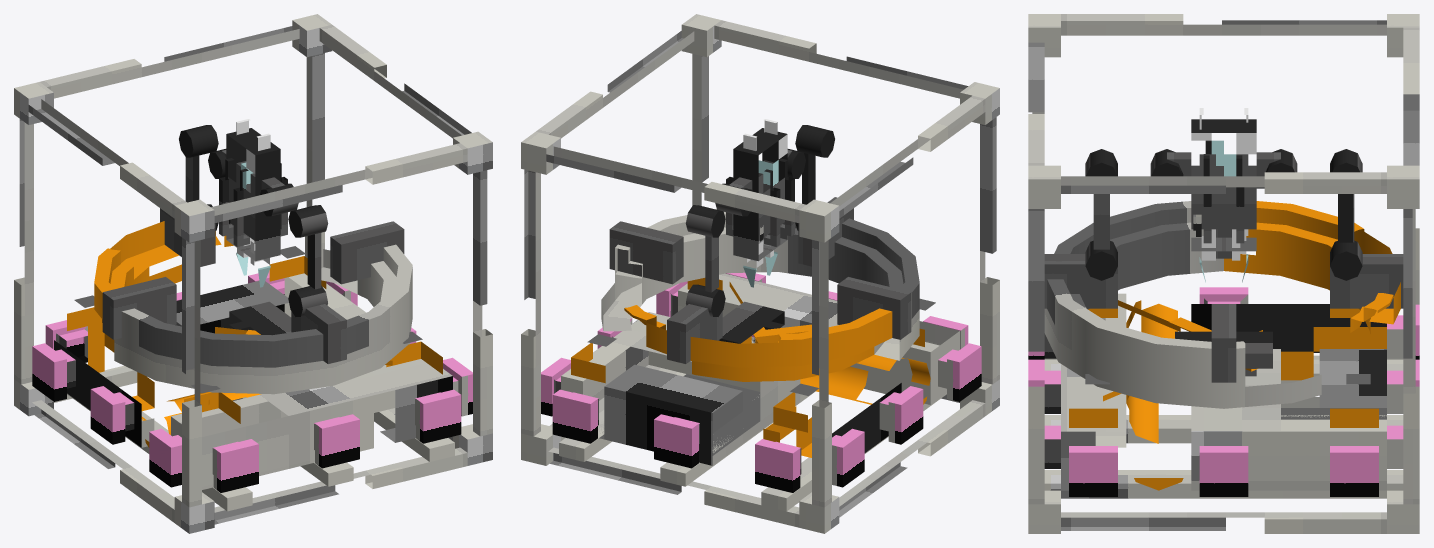
The model's file is precass_item.obj.
3 views of the same model, side by side, from view 1: azimuth 30°, elevation 25°; view 2: azimuth 150°, elevation 25°; view 3: azimuth 270°, elevation 25° (orthographic). The views are drawn at different scales.
Visible parts, largest first — view 1: Base, Frame, Ring, Ring2, Head1, Head2, ArmLower1, ArmLower2, ArmUpper1, Spike1; view 2: Base, Frame, Ring, Ring2, Head2, Head1, ArmLower2, ArmUpper1, ArmLower1, Spike2; view 3: Base, Frame, Ring, Head1, Head2, ArmLower1, Ring2, ArmLower2, ArmUpper2, Spike1, Spike2.
Part boxes in pixels (x1,y1,x2,y2): Base: [14, 246, 492, 533]; Frame: [14, 14, 492, 507]; Ring: [94, 204, 412, 367]; Ring2: [102, 221, 404, 339]; Head1: [233, 140, 298, 261]; Head2: [208, 128, 261, 250]; ArmLower1: [304, 205, 328, 305]; ArmLower2: [179, 128, 205, 202]; ArmUpper1: [260, 187, 315, 237]; Spike1: [250, 133, 270, 287]; Base: [521, 245, 999, 533]; Frame: [521, 14, 999, 507]; Ring: [615, 197, 919, 367]; Ring2: [609, 221, 911, 339]; Head2: [726, 141, 780, 261]; Head1: [752, 128, 794, 250]; ArmLower2: [698, 208, 725, 316]; ArmUpper1: [787, 128, 834, 178]; ArmLower1: [795, 125, 818, 230]; Spike2: [743, 133, 763, 287]; Base: [1028, 244, 1419, 533]; Frame: [1028, 14, 1419, 504]; Ring: [1044, 201, 1403, 378]; Head1: [1150, 119, 1223, 251]; Head2: [1224, 119, 1297, 251]; ArmLower1: [1085, 156, 1117, 280]; Ring2: [1211, 229, 1236, 382]; ArmLower2: [1330, 149, 1362, 258]; ArmUpper2: [1266, 156, 1362, 172]; Spike1: [1199, 108, 1215, 282]; Spike2: [1232, 108, 1248, 282].
Size of the model in its own units: 3 by 3 by 3.
